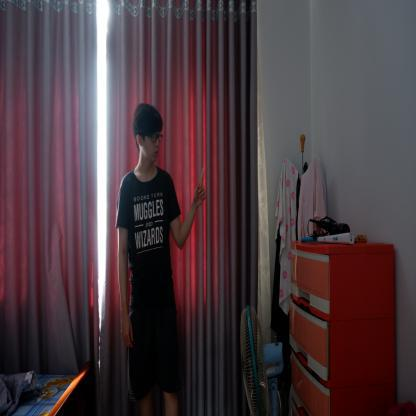cigarette: (200, 168, 204, 184)
person: (114, 101, 204, 415)
